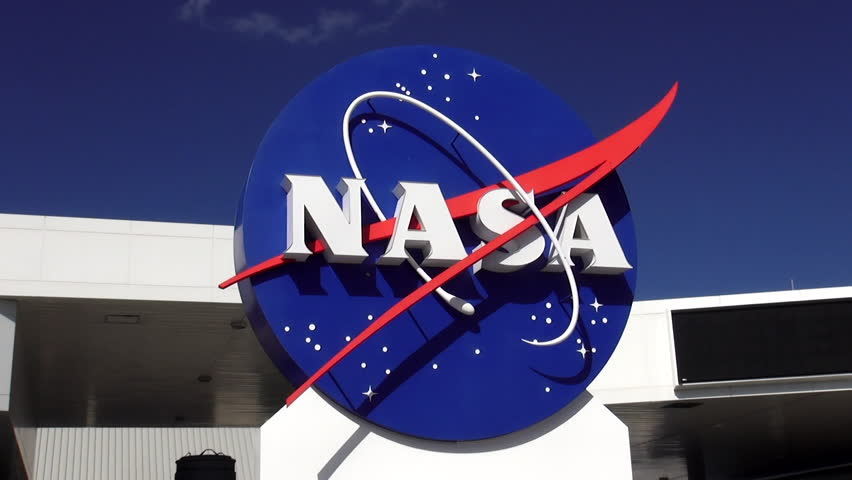NASA: (218, 32, 681, 446)
